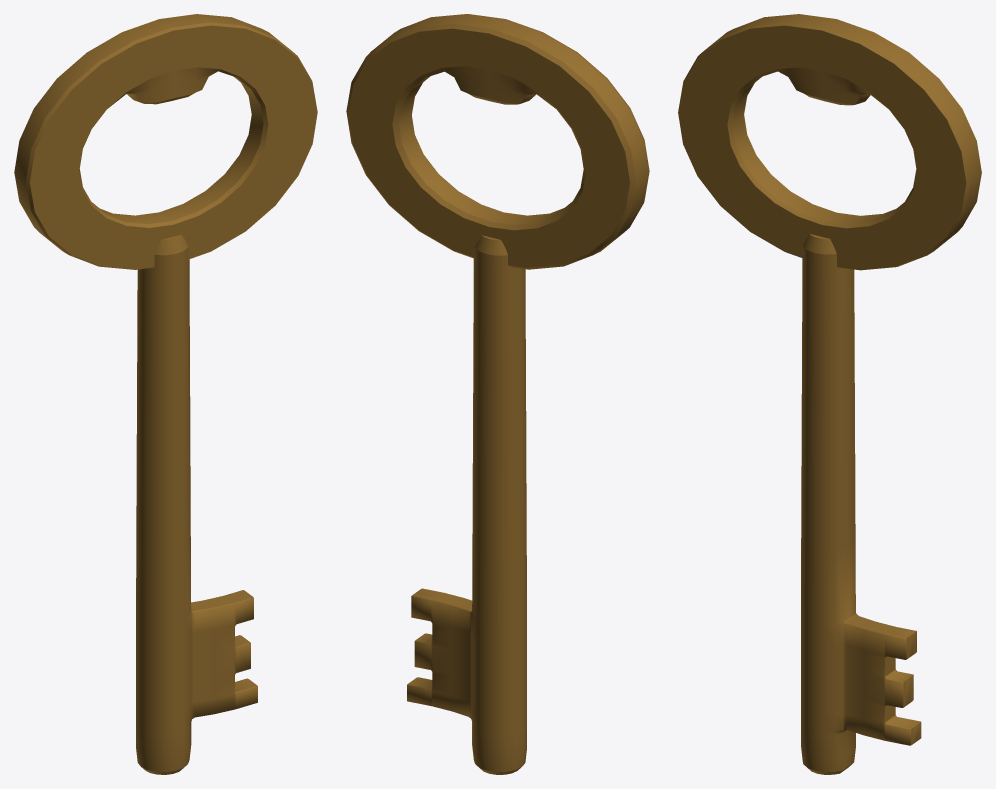
Rendered from GoldKey.fbx.
3 views of the same model, side by side, from view 1: azimuth 30°, elevation 25°; view 2: azimuth 150°, elevation 25°; view 3: azimuth 330°, elevation 25° (orthographic).
Parts seen in each view (by area): view 1: Key; view 2: Key; view 3: Key.
Boxes of the visible parts, x1=… form: Key: x1=14, y1=14, x2=317, y2=774; Key: x1=346, y1=14, x2=649, y2=774; Key: x1=678, y1=14, x2=981, y2=774.
Bounding box in the file's own units: 177 × 430 × 28.69.
